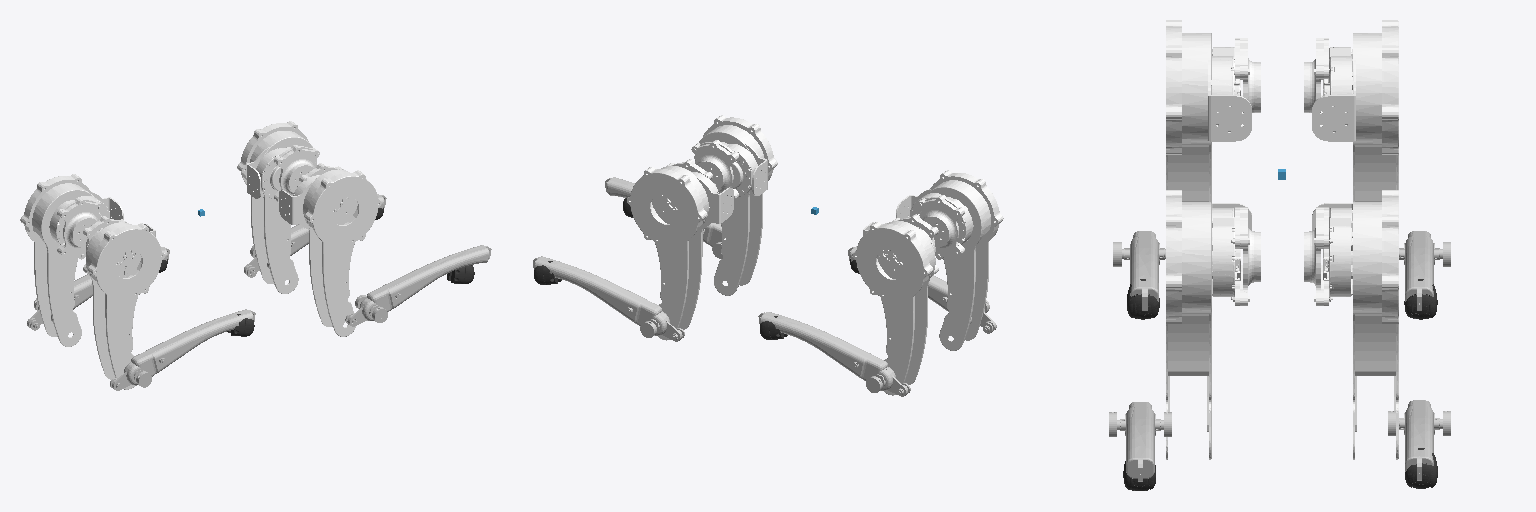
robot.urdf — mybot_v3:
<?xml version="1.0" encoding="utf-8"?>
<!-- This URDF was automatically created by SolidWorks to URDF Exporter! Originally created by Stephen Brawner (brawner@gmail.com) 
     Commit Version: 1.6.0-4-g7f85cfe  Build Version: 1.6.7995.38578
     For more information, please see http://wiki.ros.org/sw_urdf_exporter -->
<robot
  name="mybot_v3">
  <link
    name="body">
    <inertial>
      <origin
        xyz="0.00000000 0.00000000 0.00000000"
        rpy="0 0 0" />
      <mass
        value="3.87237343" />
      <inertia
        ixx="0.02571059"
        ixy="0.00000003"
        ixz="0.00005548"
        iyy="0.06723291"
        iyz="0.00000039"
        izz="0.07677825" />
    </inertial>
    <visual>
      <origin
        xyz="0 0 0"
        rpy="0 0 0" />
      <geometry>
        <mesh
          filename="../meshes/body.STL" />
      </geometry>
      <material
        name="">
        <color
          rgba="0.84706 0.84706 0.84706 1" />
      </material>
    </visual>
    <collision>
      <origin
        xyz="0 0 0"
        rpy="0 0 0" />
      <geometry>
        <box size="0.30 0.25 0.20" />
      </geometry>
    </collision>
  </link>
  <joint name="imu_joint" type="fixed">
    <parent link="body" />
    <child link="imu_link" />
    <origin rpy="0 0 0" xyz="0 0 0" />
  </joint>

  <link name="imu_link">
    <inertial>
      <mass value="0.001" />
      <origin rpy="0 0 0" xyz="0 0 0" />
      <inertia ixx="0.0001" ixy="0" ixz="0" iyy="0.0001" iyz="0" izz="0.0001" />
    </inertial>
    <visual>
      <origin rpy="0 0 0" xyz="0 0 0" />
      <geometry>
        <box size="0.01 0.01 0.01" />
      </geometry>
      <material name="red" />
    </visual>
  </link>
  <link
    name="FL_hip">
    <inertial>
      <origin
        xyz="0.06912954 0.00308032 -0.00003864"
        rpy="0 0 0" />
      <mass
        value="0.88715151" />
      <inertia
        ixx="0.00069961"
        ixy="-0.00005524"
        ixz="0.00000161"
        iyy="0.00185101"
        iyz="-0.00000029"
        izz="0.00156540" />
    </inertial>
    <visual>
      <origin
        xyz="0 0 0"
        rpy="0 0 0" />
      <geometry>
        <mesh
          filename="../meshes/FL_hip.STL" />
      </geometry>
      <material
        name="">
        <color
          rgba="1 1 1 1" />
      </material>
    </visual>
    <collision>
      <origin xyz="0.09 0 0" rpy="1.5707963 0 0" />
      <geometry>
        <box size="0.05 0.05 0.05" />
      </geometry>
    </collision>
  </link>
  <joint
    name="FL_hip_joint"
    type="revolute">
    <origin
      xyz="0.15078 0.062035 0.0028793"
      rpy="0 0 0" />
    <parent
      link="body" />
    <child
      link="FL_hip" />
    <axis
      xyz="1 0 0" />
    <dynamics damping="0.0" friction="0.1" />
    <limit effort="33.5" lower="-0.8" upper="0.8" velocity="28" />
  </joint>
  <link
    name="FL_thigh">
    <inertial>
      <origin
        xyz="-0.02888348 0.05108903 -0.02037010"
        rpy="0 0 0" />
      <mass
        value="1.44059854" />
      <inertia
        ixx="0.00402900"
        ixy="0.00102313"
        ixz="-0.00259373"
        iyy="0.00718366"
        iyz="0.00071731"
        izz="0.00544974" />
    </inertial>
    <visual>
      <origin
        xyz="0 0 0"
        rpy="0 0 0" />
      <geometry>
        <mesh
          filename="../meshes/FL_thigh.STL" />
      </geometry>
      <material
        name="">
        <color
          rgba="1 1 1 1" />
      </material>
    </visual>
    <collision>
      <origin xyz="0 0.08 -0.1" rpy="0 0 0" />
      <geometry>
        <box size="0.04 0.04 0.2" />
      </geometry>
    </collision>
  </link>
  <joint
    name="FL_thigh_joint"
    type="revolute">
    <origin
      xyz="0.0889996956253644 0.0289500000000045 0"
      rpy="0 0 0" />
    <parent
      link="FL_hip" />
    <child
      link="FL_thigh" />
    <axis
      xyz="0 1 0" />
    <dynamics damping="0.0" friction="0.1" />
    <limit effort="33.5" lower="-1.04" upper="4.18" velocity="28" />
  </joint>
  <link
    name="FL_calf">
    <inertial>
      <origin
        xyz="0.05156601 0.00018731 -0.04379412"
        rpy="0 0 0" />
      <mass
        value="0.23708419" />
      <inertia
        ixx="0.00070235"
        ixy="-0.00000272"
        ixz="0.00091520"
        iyy="0.00207462"
        iyz="0.00000190"
        izz="0.00144807" />
    </inertial>
    <visual>
      <origin
        xyz="0 0 0"
        rpy="0 0 0" />
      <geometry>
        <mesh
          filename="../meshes/FL_calf.STL" />
      </geometry>
      <material
        name="">
        <color
          rgba="0.84706 0.84706 0.84706 1" />
      </material>
    </visual>
    <collision>
      <origin xyz="0 0 -0.11" rpy="0 -0.3 0" />
      <geometry>
        <box size="0.03 0.05 0.2" />
      </geometry>
    </collision>
  </link>
  <joint
    name="FL_calf_joint"
    type="revolute">
    <origin
      xyz="0 0.075299999999995 -0.220000271728273"
      rpy="0 0 0" />
    <parent
      link="FL_thigh" />
    <child
      link="FL_calf" />
    <axis
      xyz="0 1 0" />
    <dynamics damping="0.0" friction="0.3" />
    <limit effort="78.17" lower="-2.69" upper="-0.91" velocity="12.0" />
  </joint>
  <link
    name="FL_foot">
    <inertial>
      <origin
        xyz="0.00000000 0.00000000 0.00000000"
        rpy="0 0 0" />
      <mass
        value="0.03900000" />
      <inertia
        ixx="0.00000624"
        ixy="0.00000000"
        ixz="0.00000000"
        iyy="0.00000624"
        iyz="0.00000000"
        izz="0.00000624" />
    </inertial>
    <visual>
      <origin
        xyz="0 0 0"
        rpy="0 0 0" />
      <geometry>
        <mesh
          filename="../meshes/FL_foot.STL" />
      </geometry>
      <material
        name="">
        <color
          rgba="0.29804 0.29804 0.29804 1" />
      </material>
    </visual>
    <collision>
      <origin xyz="0 0 0" rpy="0 0 0" />
      <geometry>
        <sphere radius="0.02" />
      </geometry>
    </collision>
  </link>
  <joint
    name="FL_foot_joint"
    type="fixed">
    <origin
      xyz="0 0.000400000000007244 -0.226044482407549"
      rpy="0 0 0" />
    <parent
      link="FL_calf" />
    <child
      link="FL_foot" />
    <axis
      xyz="0 0 0" />
  </joint>
  <link
    name="FR_hip">
    <inertial>
      <origin
        xyz="0.06924676 -0.00308032 -0.00003847"
        rpy="0 0 0" />
      <mass
        value="0.88715151" />
      <inertia
        ixx="0.00069961"
        ixy="0.00005408"
        ixz="-0.00000026"
        iyy="0.00185513"
        iyz="0.00000029"
        izz="0.00156952" />
    </inertial>
    <visual>
      <origin
        xyz="0 0 0"
        rpy="0 0 0" />
      <geometry>
        <mesh
          filename="../meshes/FR_hip.STL" />
      </geometry>
      <material
        name="">
        <color
          rgba="1 1 1 1" />
      </material>
    </visual>
    <collision>
      <origin xyz="0.09 0 0" rpy="1.5707963 0 0" />
      <geometry>
        <box size="0.05 0.05 0.05" />
      </geometry>
    </collision>
  </link>
  <joint
    name="FR_hip_joint"
    type="revolute">
    <origin
      xyz="0.15078 -0.061965 0.0028793"
      rpy="0 0 0" />
    <parent
      link="body" />
    <child
      link="FR_hip" />
    <axis
      xyz="1 0 0" />
    <dynamics damping="0.0" friction="0.1" />
    <limit effort="33.5" lower="-0.8" upper="0.8" velocity="28" />
  </joint>
  <link
    name="FR_thigh">
    <inertial>
      <origin
        xyz="-0.02893003 -0.05108904 -0.02031487"
        rpy="0 0 0" />
      <mass
        value="1.44059854" />
      <inertia
        ixx="0.00403040"
        ixy="-0.00102127"
        ixz="-0.00259435"
        iyy="0.00718302"
        iyz="-0.00071952"
        izz="0.00544770" />
    </inertial>
    <visual>
      <origin
        xyz="0 0 0"
        rpy="0 0 0" />
      <geometry>
        <mesh
          filename="../meshes/FR_thigh.STL" />
      </geometry>
      <material
        name="">
        <color
          rgba="1 1 1 1" />
      </material>
    </visual>
    <collision>
      <origin xyz="0 -0.08 -0.1" rpy="0 0 0" />
      <geometry>
        <box size="0.04 0.04 0.2" />
      </geometry>
    </collision>
  </link>
  <joint
    name="FR_thigh_joint"
    type="revolute">
    <origin
      xyz="0.0889996956253649 -0.0289500000000027 0"
      rpy="0 0 0" />
    <parent
      link="FR_hip" />
    <child
      link="FR_thigh" />
    <axis
      xyz="0 1 0" />
    <dynamics damping="0.0" friction="0.1" />
    <limit effort="33.5" lower="-1.04" upper="4.18" velocity="28" />
  </joint>
  <link
    name="FR_calf">
    <inertial>
      <origin
        xyz="0.05155465 -0.00019685 -0.04378873"
        rpy="0 0 0" />
      <mass
        value="0.23708419" />
      <inertia
        ixx="0.00070228"
        ixy="0.00000301"
        ixz="0.00091508"
        iyy="0.00207435"
        iyz="-0.00000213"
        izz="0.00144787" />
    </inertial>
    <visual>
      <origin
        xyz="0 0 0"
        rpy="0 0 0" />
      <geometry>
        <mesh
          filename="../meshes/FR_calf.STL" />
      </geometry>
      <material
        name="">
        <color
          rgba="0.84706 0.84706 0.84706 1" />
      </material>
    </visual>
    <collision>
      <origin xyz="0 0 -0.11" rpy="0 -0.3 0" />
      <geometry>
        <box size="0.03 0.05 0.2" />
      </geometry>
    </collision>
  </link>
  <joint
    name="FR_calf_joint"
    type="revolute">
    <origin
      xyz="0 -0.0752999999999995 -0.220000271728275"
      rpy="0 0 0" />
    <parent
      link="FR_thigh" />
    <child
      link="FR_calf" />
    <axis
      xyz="0 1 0" />
    <dynamics damping="0.0" friction="0.3" />
    <limit effort="78.17" lower="-2.69" upper="-0.91" velocity="12.0" />
  </joint>
  <link
    name="FR_foot">
    <inertial>
      <origin
        xyz="0.00000000 0.00000000 0.00000000"
        rpy="0 0 0" />
      <mass
        value="0.03900000" />
      <inertia
        ixx="0.00000624"
        ixy="0.00000000"
        ixz="0.00000000"
        iyy="0.00000624"
        iyz="0.00000000"
        izz="0.00000624" />
    </inertial>
    <visual>
      <origin
        xyz="0 0 0"
        rpy="0 0 0" />
      <geometry>
        <mesh
          filename="../meshes/FR_foot.STL" />
      </geometry>
      <material
        name="">
        <color
          rgba="0.29804 0.29804 0.29804 1" />
      </material>
    </visual>
    <collision>
      <origin xyz="0 0 0" rpy="0 0 0" />
      <geometry>
        <sphere radius="0.02" />
      </geometry>
    </collision>
  </link>
  <joint
    name="FR_foot_joint"
    type="fixed">
    <origin
      xyz="0 -0.000399999999994072 -0.226044482407548"
      rpy="0 0 0" />
    <parent
      link="FR_calf" />
    <child
      link="FR_foot" />
    <axis
      xyz="0 0 0" />
  </joint>
  <link
    name="RL_hip">
    <inertial>
      <origin
        xyz="-0.06912961 0.00308032 0.00003847"
        rpy="0 0 0" />
      <mass
        value="0.88715151" />
      <inertia
        ixx="0.00069961"
        ixy="0.00005524"
        ixz="0.00000161"
        iyy="0.00185101"
        iyz="0.00000029"
        izz="0.00156540" />
    </inertial>
    <visual>
      <origin
        xyz="0 0 0"
        rpy="0 0 0" />
      <geometry>
        <mesh
          filename="../meshes/RL_hip.STL" />
      </geometry>
      <material
        name="">
        <color
          rgba="1 1 1 1" />
      </material>
    </visual>
    <collision>
      <origin xyz="-0.09 0 0" rpy="1.5707963 0 0" />
      <geometry>
        <box size="0.05 0.05 0.05" />
      </geometry>
    </collision>
  </link>
  <joint
    name="RL_hip_joint"
    type="revolute">
    <origin
      xyz="-0.15042 0.062035 0.0028793"
      rpy="0 0 0" />
    <parent
      link="body" />
    <child
      link="RL_hip" />
    <axis
      xyz="1 0 0" />
    <dynamics damping="0.0" friction="0.1" />
    <limit effort="33.5" lower="-0.8" upper="0.8" velocity="28" />
  </joint>
  <link
    name="RL_thigh">
    <inertial>
      <origin
        xyz="-0.02981118 0.05142476 -0.01901311"
        rpy="0 0 0" />
      <mass
        value="1.45185979" />
      <inertia
        ixx="0.00384286"
        ixy="0.00104947"
        ixz="-0.00254354"
        iyy="0.00725341"
        iyz="0.00066590"
        izz="0.00575250" />
    </inertial>
    <visual>
      <origin
        xyz="0 0 0"
        rpy="0 0 0" />
      <geometry>
        <mesh
          filename="../meshes/RL_thigh.STL" />
      </geometry>
      <material
        name="">
        <color
          rgba="1 1 1 1" />
      </material>
    </visual>
    <collision>
      <origin xyz="0 0.08 -0.1" rpy="0 0 0" />
      <geometry>
        <box size="0.04 0.04 0.2" />
      </geometry>
    </collision>
  </link>
  <joint
    name="RL_thigh_joint"
    type="revolute">
    <origin
      xyz="-0.0889996956253643 0.0289499874999981 0"
      rpy="0 0 0" />
    <parent
      link="RL_hip" />
    <child
      link="RL_thigh" />
    <axis
      xyz="0 1 0" />
    <dynamics damping="0.0" friction="0.1" />
    <limit effort="33.5" lower="-1.04" upper="4.18" velocity="28" />
  </joint>
  <link
    name="RL_calf">
    <inertial>
      <origin
        xyz="0.05423569 0.00000883 -0.03966053"
        rpy="0 0 0" />
      <mass
        value="0.23880158" />
      <inertia
        ixx="0.00057526"
        ixy="0.00000037"
        ixz="0.00085435"
        iyy="0.00208160"
        iyz="-0.00000027"
        izz="0.00158150" />
    </inertial>
    <visual>
      <origin
        xyz="0 0 0"
        rpy="0 0 0" />
      <geometry>
        <mesh
          filename="../meshes/RL_calf.STL" />
      </geometry>
      <material
        name="">
        <color
          rgba="0.84706 0.84706 0.84706 1" />
      </material>
    </visual>
    <collision>
      <origin xyz="0 0 -0.11" rpy="0 -0.3 0" />
      <geometry>
        <box size="0.03 0.05 0.2" />
      </geometry>
    </collision>
  </link>
  <joint
    name="RL_calf_joint"
    type="revolute">
    <origin
      xyz="0 0.0752999999999953 -0.220000271728273"
      rpy="0 0 0" />
    <parent
      link="RL_thigh" />
    <child
      link="RL_calf" />
    <axis
      xyz="0 1 0" />
    <dynamics damping="0.0" friction="0.3" />
    <limit effort="78.17" lower="-2.69" upper="-0.91" velocity="12.0" />
  </joint>
  <link
    name="RL_foot">
    <inertial>
      <origin
        xyz="0.00000000 0.00000000 0.00000000"
        rpy="0 0 0" />
      <mass
        value="0.03900000" />
      <inertia
        ixx="0.00000624"
        ixy="0.00000000"
        ixz="0.00000000"
        iyy="0.00000624"
        iyz="0.00000000"
        izz="0.00000624" />
    </inertial>
    <visual>
      <origin
        xyz="0 0 0"
        rpy="0 0 0" />
      <geometry>
        <mesh
          filename="../meshes/RL_foot.STL" />
      </geometry>
      <material
        name="">
        <color
          rgba="0.29804 0.29804 0.29804 1" />
      </material>
    </visual>
    <collision>
      <origin xyz="0 0 0" rpy="0 0 0" />
      <geometry>
        <sphere radius="0.02" />
      </geometry>
    </collision>
  </link>
  <joint
    name="RL_foot_joint"
    type="fixed">
    <origin
      xyz="0 0 -0.226044482410381"
      rpy="0 0 0" />
    <parent
      link="RL_calf" />
    <child
      link="RL_foot" />
    <axis
      xyz="0 0 0" />
  </joint>
  <link
    name="RR_hip">
    <inertial>
      <origin
        xyz="-0.06924676 -0.00308032 0.00003847"
        rpy="0 0 0" />
      <mass
        value="0.88715151" />
      <inertia
        ixx="0.00069961"
        ixy="-0.00005408"
        ixz="-0.00000026"
        iyy="0.00185513"
        iyz="-0.00000029"
        izz="0.00156952" />
    </inertial>
    <visual>
      <origin
        xyz="0 0 0"
        rpy="0 0 0" />
      <geometry>
        <mesh
          filename="../meshes/RR_hip.STL" />
      </geometry>
      <material
        name="">
        <color
          rgba="1 1 1 1" />
      </material>
    </visual>
    <collision>
      <origin xyz="-0.09 0 0" rpy="1.5707963 0 0" />
      <geometry>
        <box size="0.05 0.05 0.05" />
      </geometry>
    </collision>
  </link>
  <joint
    name="RR_hip_joint"
    type="revolute">
    <origin
      xyz="-0.150422440000001 -0.0619648146458117 0.00287929128020871"
      rpy="0 0 0" />
    <parent
      link="body" />
    <child
      link="RR_hip" />
    <axis
      xyz="1 0 0" />
    <dynamics damping="0.0" friction="0.1" />
    <limit effort="33.5" lower="-0.8" upper="0.8" velocity="28" />
  </joint>
  <link
    name="RR_thigh">
    <inertial>
      <origin
        xyz="-0.02978034 -0.05141831 -0.01902502"
        rpy="0 0 0" />
      <mass
        value="1.45068546" />
      <inertia
        ixx="0.00384080"
        ixy="-0.00104560"
        ixz="-0.00254723"
        iyy="0.00724711"
        iyz="-0.00067018"
        izz="0.00574630" />
    </inertial>
    <visual>
      <origin
        xyz="0 0 0"
        rpy="0 0 0" />
      <geometry>
        <mesh
          filename="../meshes/RR_thigh.STL" />
      </geometry>
      <material
        name="">
        <color
          rgba="1 1 1 1" />
      </material>
    </visual>
    <collision>
      <origin xyz="0 -0.08 -0.1" rpy="0 0 0" />
      <geometry>
        <box size="0.04 0.04 0.2" />
      </geometry>
    </collision>
  </link>
  <joint
    name="RR_thigh_joint"
    type="revolute">
    <origin
      xyz="-0.0889996956253639 -0.0289499875000004 0"
      rpy="0 0 0" />
    <parent
      link="RR_hip" />
    <child
      link="RR_thigh" />
    <axis
      xyz="0 1 0" />
    <dynamics damping="0.0" friction="0.1" />
    <limit effort="33.5" lower="-1.04" upper="4.18" velocity="28" />
  </joint>
  <link
    name="RR_calf">
    <inertial>
      <origin
        xyz="0.05424733 -0.00001831 -0.03966504"
        rpy="0 0 0" />
      <mass
        value="0.23880158" />
      <inertia
        ixx="0.00057532"
        ixy="-0.00000006"
        ixz="0.00085447"
        iyy="0.00208188"
        iyz="0.00000006"
        izz="0.00158173" />
    </inertial>
    <visual>
      <origin
        xyz="0 0 0"
        rpy="0 0 0" />
      <geometry>
        <mesh
          filename="../meshes/RR_calf.STL" />
      </geometry>
      <material
        name="">
        <color
          rgba="0.84706 0.84706 0.84706 1" />
      </material>
    </visual>
    <collision>
      <origin xyz="0 0 -0.11" rpy="0 -0.3 0" />
      <geometry>
        <box size="0.03 0.05 0.2" />
      </geometry>
    </collision>
  </link>
  <joint
    name="RR_calf_joint"
    type="revolute">
    <origin
      xyz="0 -0.0752999999999974 -0.220000271728273"
      rpy="0 0 0" />
    <parent
      link="RR_thigh" />
    <child
      link="RR_calf" />
    <axis
      xyz="0 1 0" />
    <dynamics damping="0.0" friction="0.3" />
    <limit effort="78.17" lower="-2.69" upper="-0.91" velocity="12.0" />
  </joint>
  <link
    name="RR_foot">
    <inertial>
      <origin
        xyz="0.00000000 0.00000000 0.00000000"
        rpy="0 0 0" />
      <mass
        value="0.03900000" />
      <inertia
        ixx="0.00000624"
        ixy="0.00000000"
        ixz="0.00000000"
        iyy="0.00000624"
        iyz="0.00000000"
        izz="0.00000624" />
    </inertial>
    <visual>
      <origin
        xyz="0 0 0"
        rpy="0 0 0" />
      <geometry>
        <mesh
          filename="../meshes/RR_foot.STL" />
      </geometry>
      <material
        name="">
        <color
          rgba="0.29804 0.29804 0.29804 1" />
      </material>
    </visual>
    <collision>
      <origin xyz="0 0 0" rpy="0 0 0" />
      <geometry>
        <sphere radius="0.02" />
      </geometry>
    </collision>
  </link>
  <joint
    name="RR_foot_joint"
    type="fixed">
    <origin
      xyz="0 0 -0.226044482410382"
      rpy="0 0 0" />
    <parent
      link="RR_calf" />
    <child
      link="RR_foot" />
    <axis
      xyz="0 0 0" />
  </joint>
</robot>

--- What the picture shows (computed from the rendered views, not written in the file) ---
Views: 3 orthographic renders of the robot side by side, from view 1: azimuth 30°, elevation 25°; view 2: azimuth 150°, elevation 25°; view 3: azimuth 270°, elevation 25°.
Robot: mybot_v3 — 18 links, 17 joints (12 revolute, 5 fixed); root link body; default pose: joints at zero except 4 at the middle of their limits (FL_calf_joint = -1.8, FR_calf_joint = -1.8, RL_calf_joint = -1.8, RR_calf_joint = -1.8).
Visible links, largest first — view 1: FR_thigh, RL_thigh, RR_thigh, FL_thigh, FR_calf, RR_calf, FL_hip, FR_hip, RL_calf, FL_calf; view 2: RR_thigh, FL_thigh, RL_thigh, FR_thigh, RL_calf, FL_calf, FR_hip, FL_hip, FR_calf, RR_calf, RR_hip; view 3: FL_thigh, FR_thigh, RL_thigh, RR_thigh, RR_hip, RL_hip, FR_calf, FL_calf, RR_calf, RL_calf, FL_foot, RL_foot (+1 smaller).
Boxes of the visible links, box(x1,y1,x2,y2) form: FR_thigh: box(299, 163, 381, 336); RL_thigh: box(20, 174, 102, 346); RR_thigh: box(83, 216, 164, 389); FL_thigh: box(237, 121, 319, 293); FR_calf: box(345, 245, 491, 326); RR_calf: box(110, 309, 255, 390); FL_hip: box(247, 147, 285, 198); FR_hip: box(279, 175, 319, 230); RL_calf: box(27, 247, 169, 330); FL_calf: box(244, 194, 386, 277); RR_thigh: box(917, 170, 1003, 350); FL_thigh: box(627, 159, 712, 340); RL_thigh: box(852, 214, 938, 395); FR_thigh: box(691, 115, 777, 295); RL_calf: box(758, 312, 910, 396); FL_calf: box(533, 256, 684, 341); FR_hip: box(727, 143, 767, 196); FL_hip: box(692, 172, 733, 229); FR_calf: box(605, 177, 722, 258); RR_calf: box(848, 246, 996, 333); RR_hip: box(896, 189, 940, 218); FL_thigh: box(1304, 190, 1398, 459); FR_thigh: box(1166, 190, 1260, 459); RL_thigh: box(1304, 20, 1398, 201); RR_thigh: box(1166, 20, 1260, 202); RR_hip: box(1208, 56, 1251, 141); RL_hip: box(1312, 56, 1355, 141); FR_calf: box(1109, 402, 1171, 481); FL_calf: box(1388, 400, 1450, 480); RR_calf: box(1113, 231, 1165, 310); RL_calf: box(1399, 231, 1450, 310); FL_foot: box(1405, 448, 1437, 488); RL_foot: box(1404, 279, 1437, 319).
Bounding box of the posed robot: 0.8623 × 0.4085 × 0.338 m (x, y, z).
16 mesh visuals loaded from 17 distinct referenced files (16 binary STL); not drawn: 1 (reference not matched to a file when rendering).
